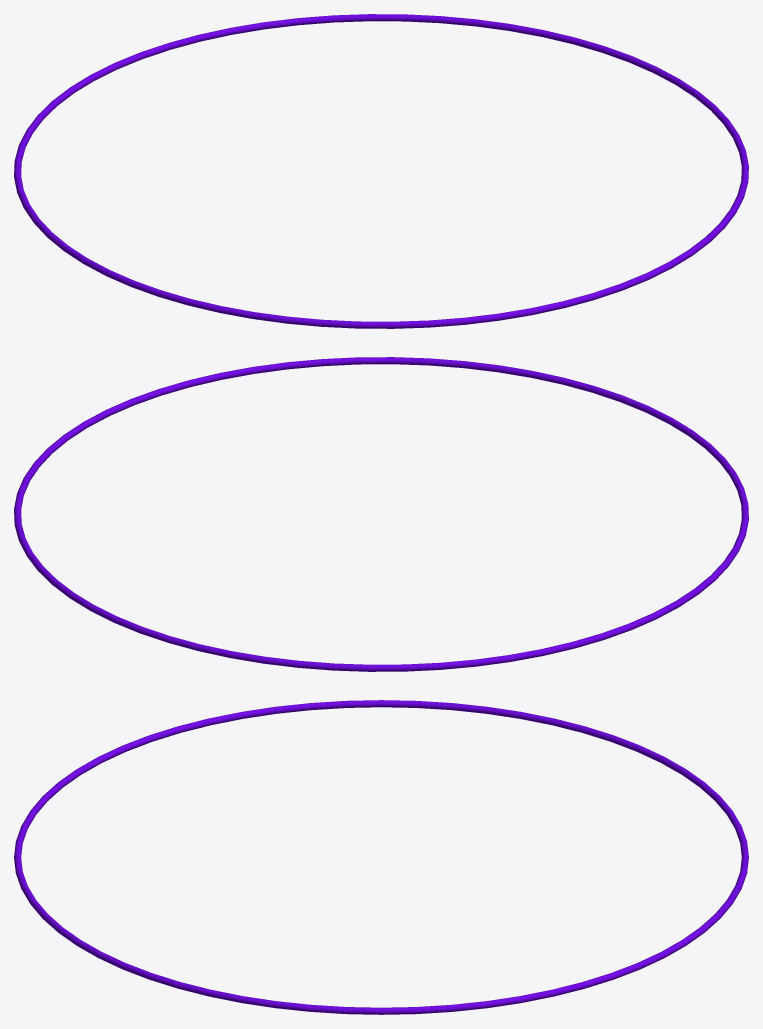
File: Arena-Light.fbx
3 renders of one model, top to bottom at view 1: azimuth 30°, elevation 25°; view 2: azimuth 150°, elevation 25°; view 3: azimuth 270°, elevation 25°, orthographic.
Parts seen in each view (by area): view 1: Torus; view 2: Torus; view 3: Torus.
Part boxes in pixels (<box>): Torus: <box>14,14,748,328</box>; Torus: <box>14,357,748,671</box>; Torus: <box>14,700,748,1014</box>.
Bounding box in the file's own units: 616 × 6 × 616.
